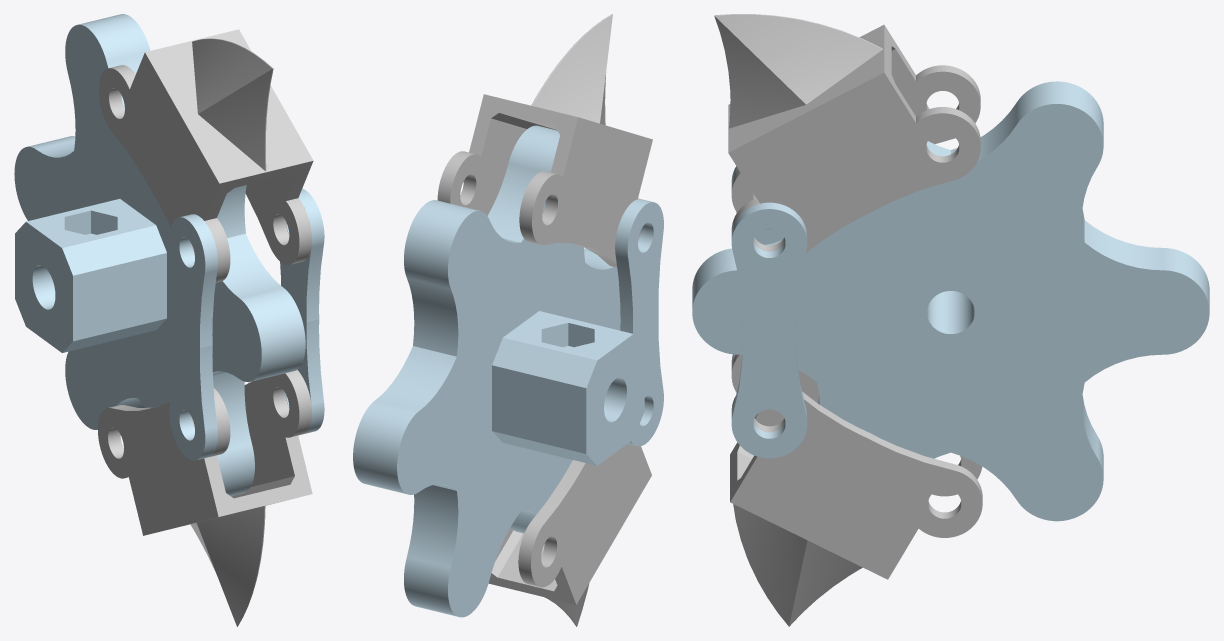
Rendered from Chainaxe.glb.
The picture shows the model from 3 angles, left to right: view 1: azimuth 30°, elevation 25°; view 2: azimuth 150°, elevation 25°; view 3: azimuth 270°, elevation 25°; orthographic projection. The views are drawn at different scales.
Parts seen in each view (by area): view 1: Sprocket, ChainTooth (×2), OuterChain (×2); view 2: Sprocket, ChainTooth (×2), OuterChain; view 3: Sprocket, ChainTooth (×2), OuterChain.
Part boxes in pixels (box(x1,y1,x2,y2)): Sprocket: box(14, 14, 305, 495); ChainTooth (×2): box(98, 29, 313, 626); OuterChain (×2): box(169, 188, 324, 460); Sprocket: box(353, 125, 644, 617); ChainTooth (×2): box(437, 14, 652, 626); OuterChain: box(615, 199, 663, 446); Sprocket: box(692, 81, 1209, 521); ChainTooth (×2): box(714, 14, 982, 626); OuterChain: box(731, 202, 807, 458).
Size of the model in its own units: 0.028 by 0.0893 by 0.0683.
